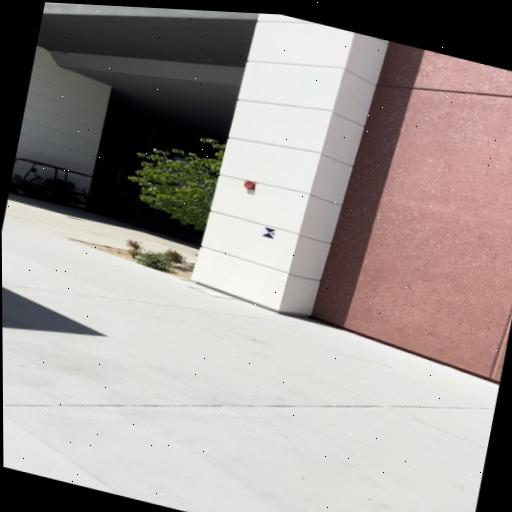target6: (263, 227, 276, 239)
